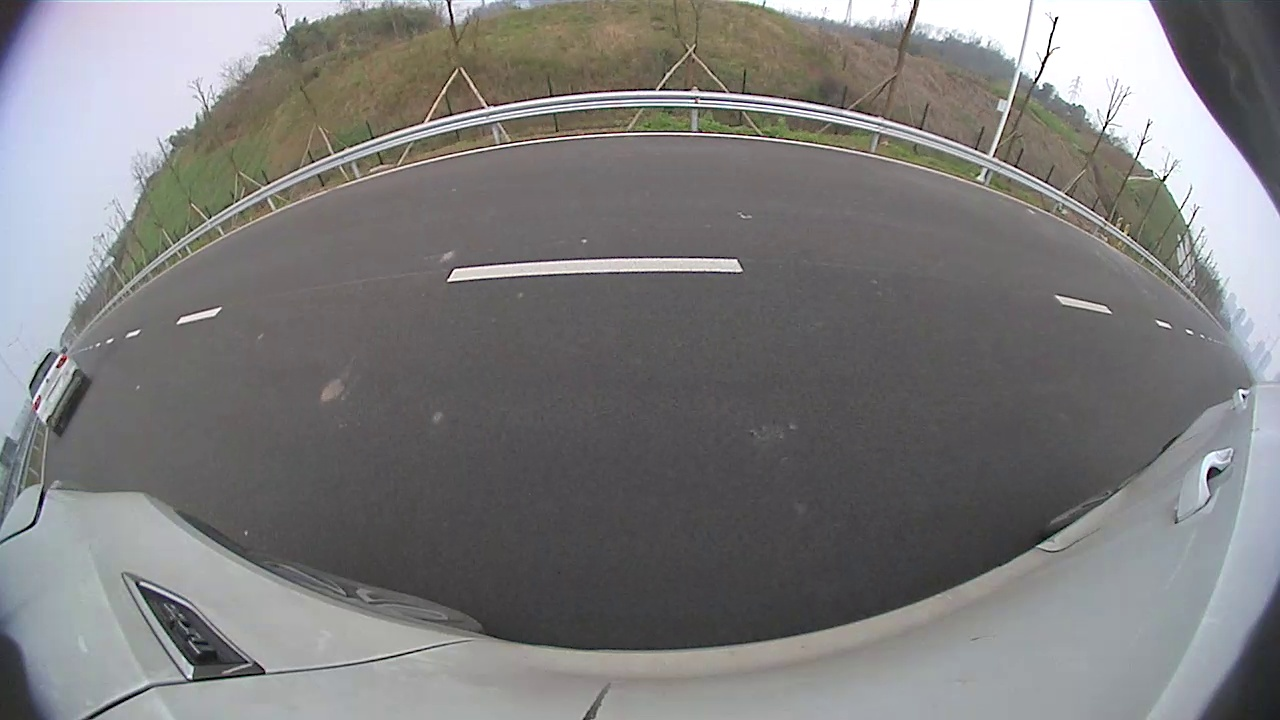car: (651, 129, 751, 211)
